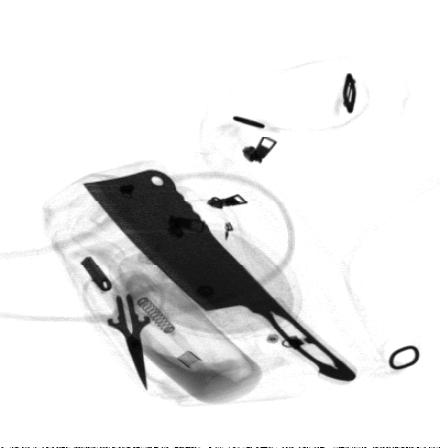Knife: (82, 168, 357, 382)
Scissors: (81, 270, 164, 390)
